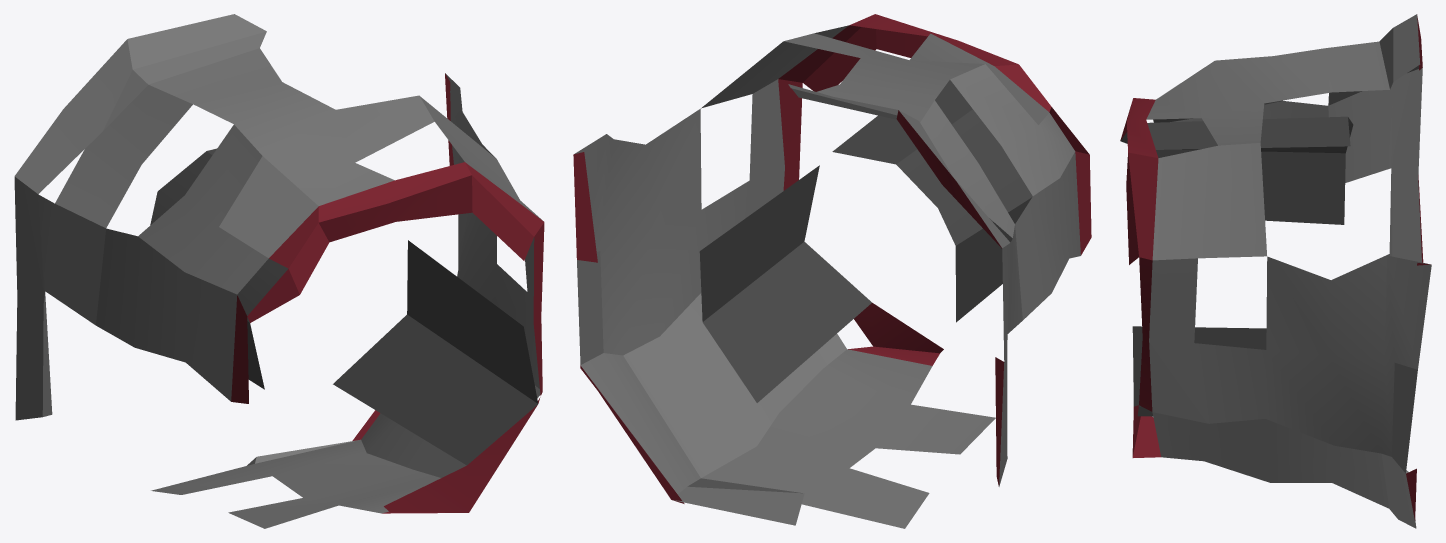
File: Scrap05.fbx
The picture shows the model from 3 angles, left to right: view 1: azimuth 30°, elevation 25°; view 2: azimuth 150°, elevation 25°; view 3: azimuth 270°, elevation 25°; orthographic projection. The views are drawn at different scales.
Parts seen in each view (by area): view 1: SatteliteLaser.003; view 2: SatteliteLaser.003; view 3: SatteliteLaser.003.
Part boxes in pixels (x1=…): SatteliteLaser.003: x1=14, y1=14, x2=544, y2=528; SatteliteLaser.003: x1=573, y1=14, x2=1091, y2=528; SatteliteLaser.003: x1=1120, y1=14, x2=1431, y2=528.
Bounding box in the file's own units: 5.04 × 5 × 3.41.
